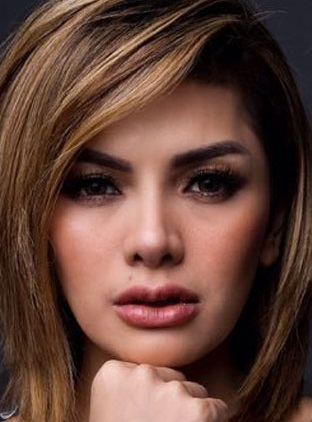tahilalat: (127, 273, 136, 282)
